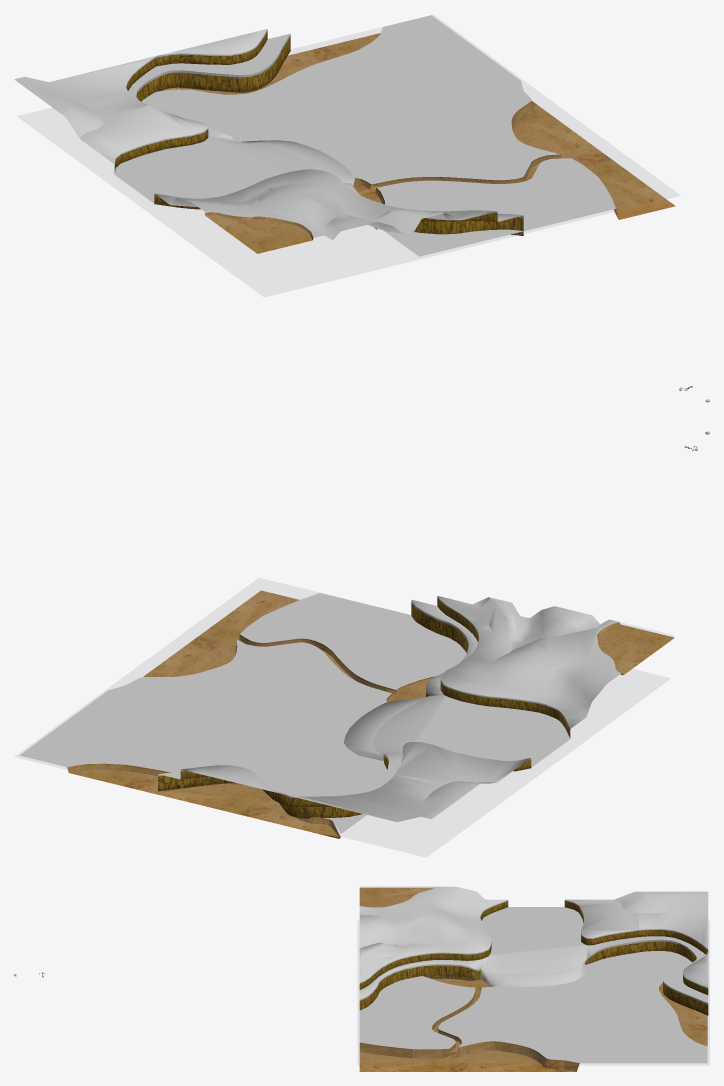
Rendered from Rock(Big1.FBX.
3 renders of one model, top to bottom at view 1: azimuth 30°, elevation 25°; view 2: azimuth 150°, elevation 25°; view 3: azimuth 270°, elevation 25°, orthographic. The views are drawn at different scales.
Visible parts, largest first — view 1: Plane005, Plane029, Object015, Object041, Object042, Plane006, Plane003; view 2: Plane005, Plane029, Object015, Object042, Object041, Plane006, Plane003; view 3: Plane005, Object015, Plane029, Object041, Object042, Plane003, Plane006.
Part boxes in pixels (bbox=[...]): Plane005: bbox=[14, 15, 615, 256]; Plane029: bbox=[17, 15, 680, 296]; Object015: bbox=[163, 33, 675, 229]; Object041: bbox=[136, 36, 523, 235]; Object042: bbox=[114, 31, 497, 222]; Plane006: bbox=[204, 212, 313, 253]; Plane003: bbox=[206, 212, 312, 250]; Plane005: bbox=[19, 593, 621, 833]; Plane029: bbox=[15, 578, 670, 856]; Object015: bbox=[67, 590, 435, 838]; Object042: bbox=[180, 598, 570, 806]; Object041: bbox=[158, 602, 468, 818]; Plane006: bbox=[597, 622, 674, 675]; Plane003: bbox=[597, 622, 673, 672]; Plane005: bbox=[359, 886, 708, 1063]; Object015: bbox=[359, 978, 707, 1071]; Plane029: bbox=[358, 921, 709, 1064]; Object041: bbox=[359, 941, 708, 1015]; Object042: bbox=[359, 901, 708, 994]; Plane003: bbox=[360, 886, 433, 906]; Plane006: bbox=[359, 887, 433, 907].
Bounding box in the file's own units: 1218 × 156 × 2443.
